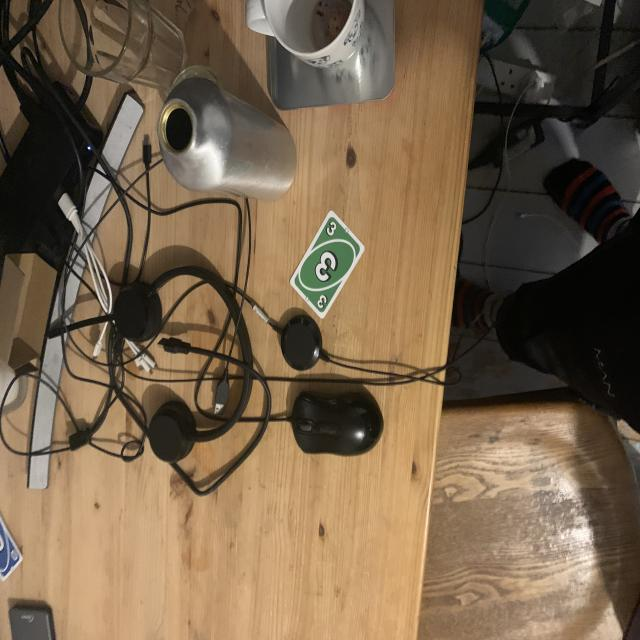lgreen-3: (324, 216, 338, 240)
